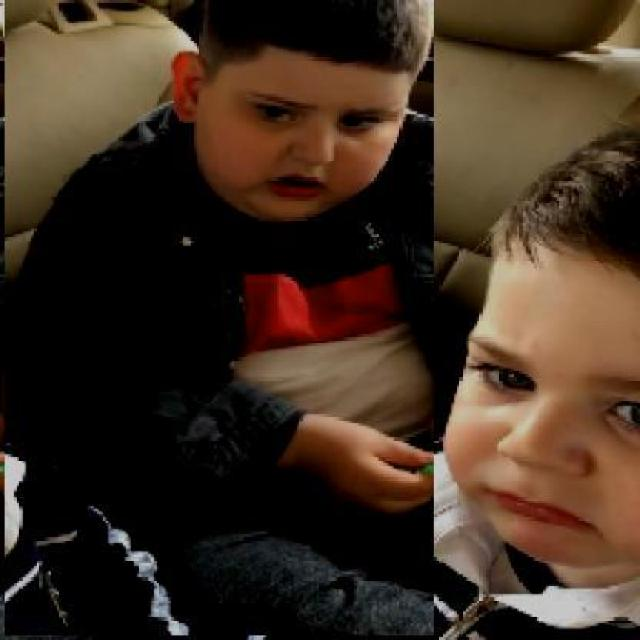child: (3, 0, 434, 637), (243, 122, 640, 638)
